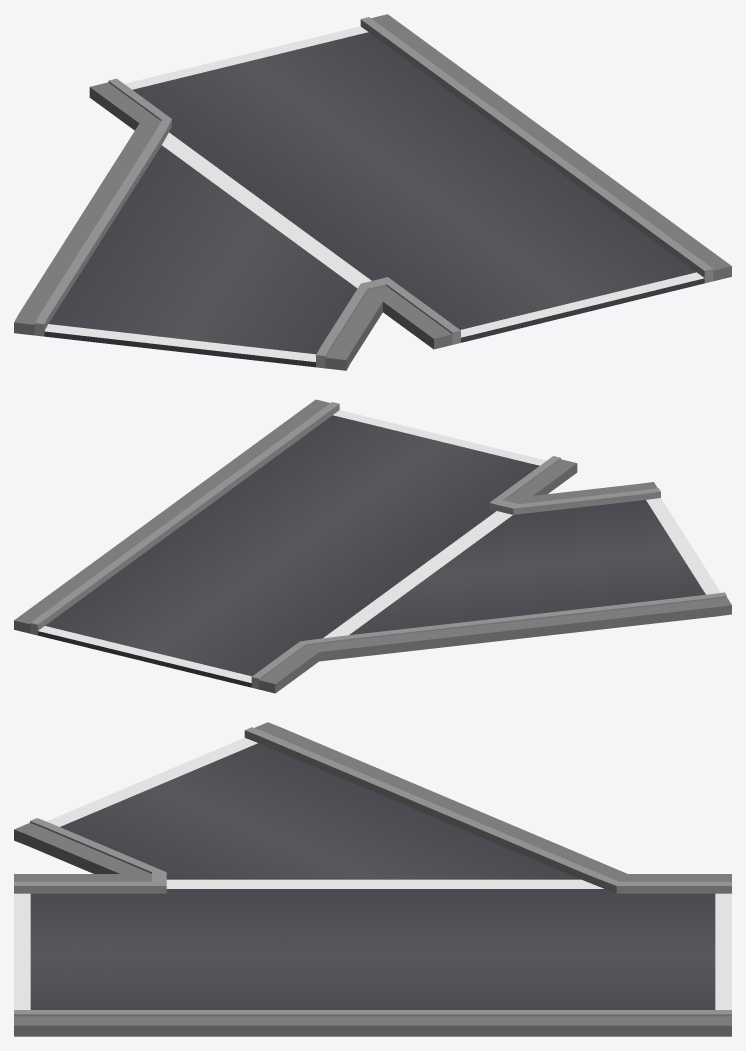
The model's file is Road12_Diagonal_Splitter_R.glb.
3 renders of one model, top to bottom at view 1: azimuth 30°, elevation 25°; view 2: azimuth 150°, elevation 25°; view 3: azimuth 270°, elevation 25°, orthographic. The views are drawn at different scales.
Visible parts, largest first — view 1: Road12_Diagonal_Splitter_R; view 2: Road12_Diagonal_Splitter_R; view 3: Road12_Diagonal_Splitter_R.
Part boxes in pixels (left/top/right/bottom): Road12_Diagonal_Splitter_R: left=14, top=14, right=731, bottom=370; Road12_Diagonal_Splitter_R: left=14, top=399, right=731, bottom=693; Road12_Diagonal_Splitter_R: left=14, top=722, right=731, bottom=1036.
Bounding box in the file's own units: 24 × 0.4754 × 24.
Materials: 1 (1 with a texture image).
